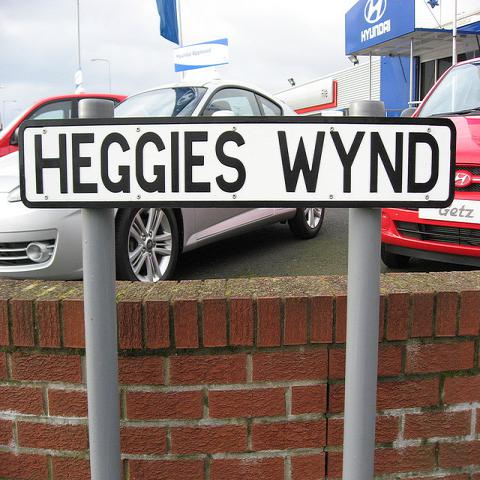car: (1, 89, 331, 286), (380, 57, 480, 268), (112, 80, 299, 118)
